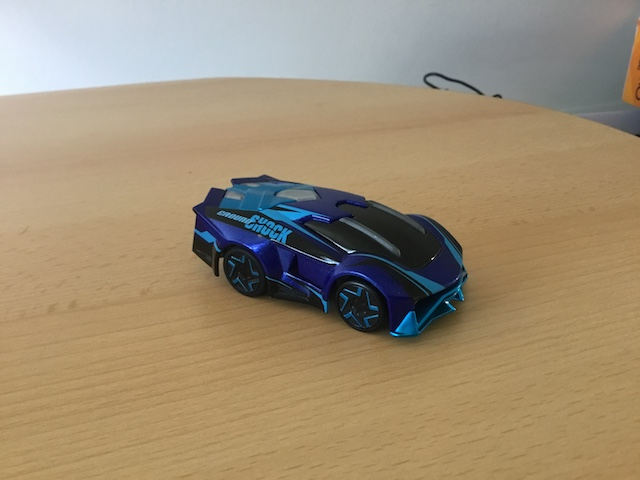car-blue: (189, 171, 472, 341)
